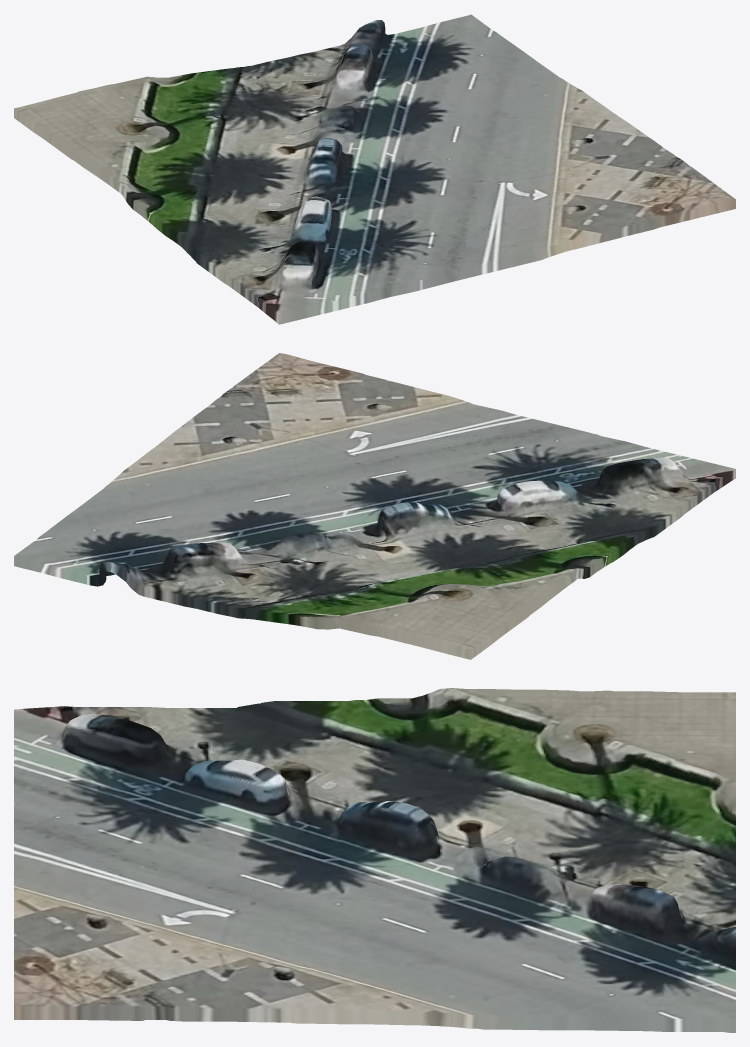
Rendered from z20-167790-405224-h0-yup-uvflip-v3-world.glb.
The picture shows the model from 3 angles, top to bottom: view 1: azimuth 30°, elevation 25°; view 2: azimuth 150°, elevation 25°; view 3: azimuth 270°, elevation 25°; orthographic projection. The views are drawn at different scales.
Size of the model in its own units: 30.16 by 2.32 by 30.32.
Materials: 1 (1 with a texture image).
